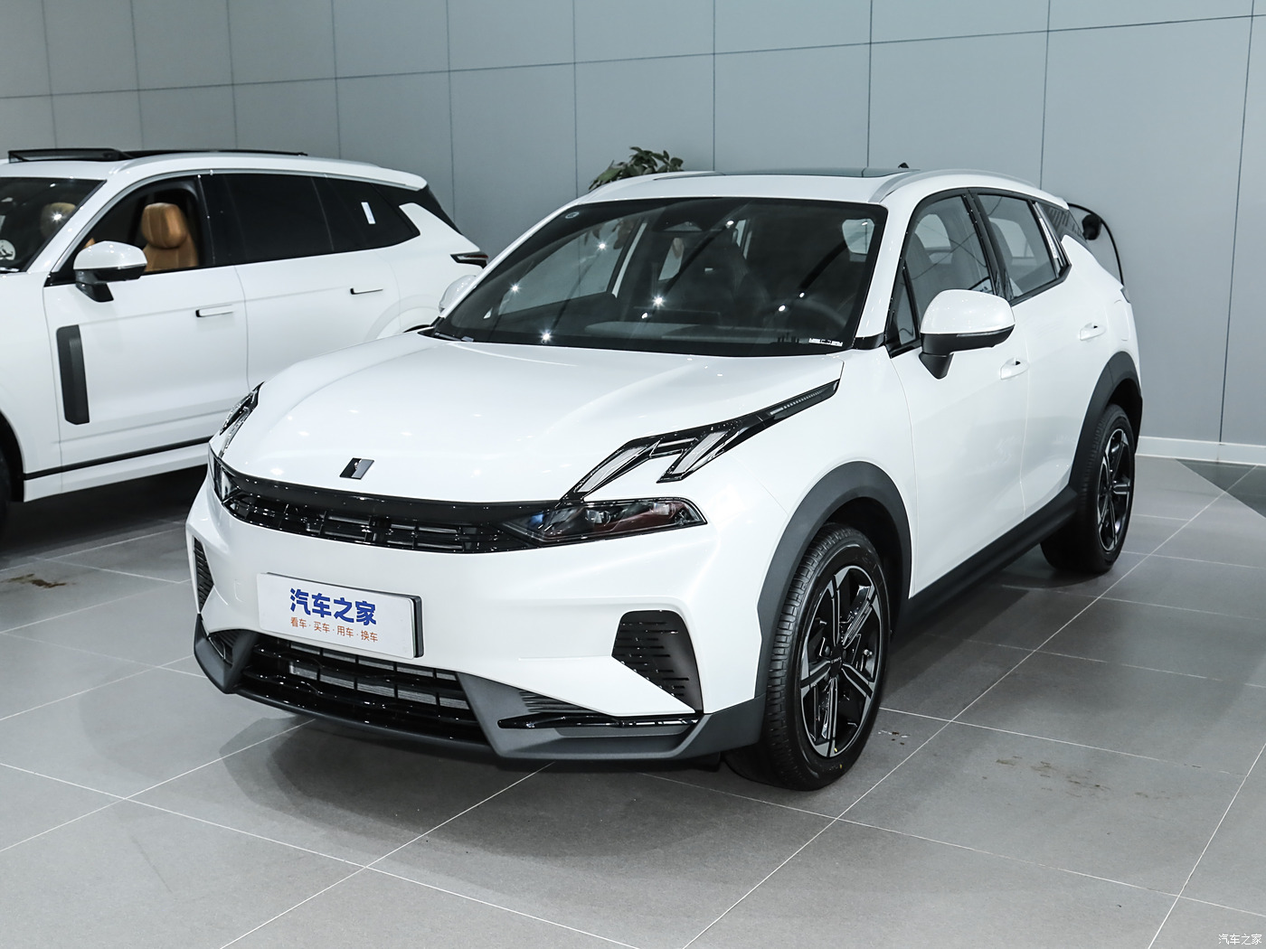LINK&CO: (339, 457, 374, 480)
